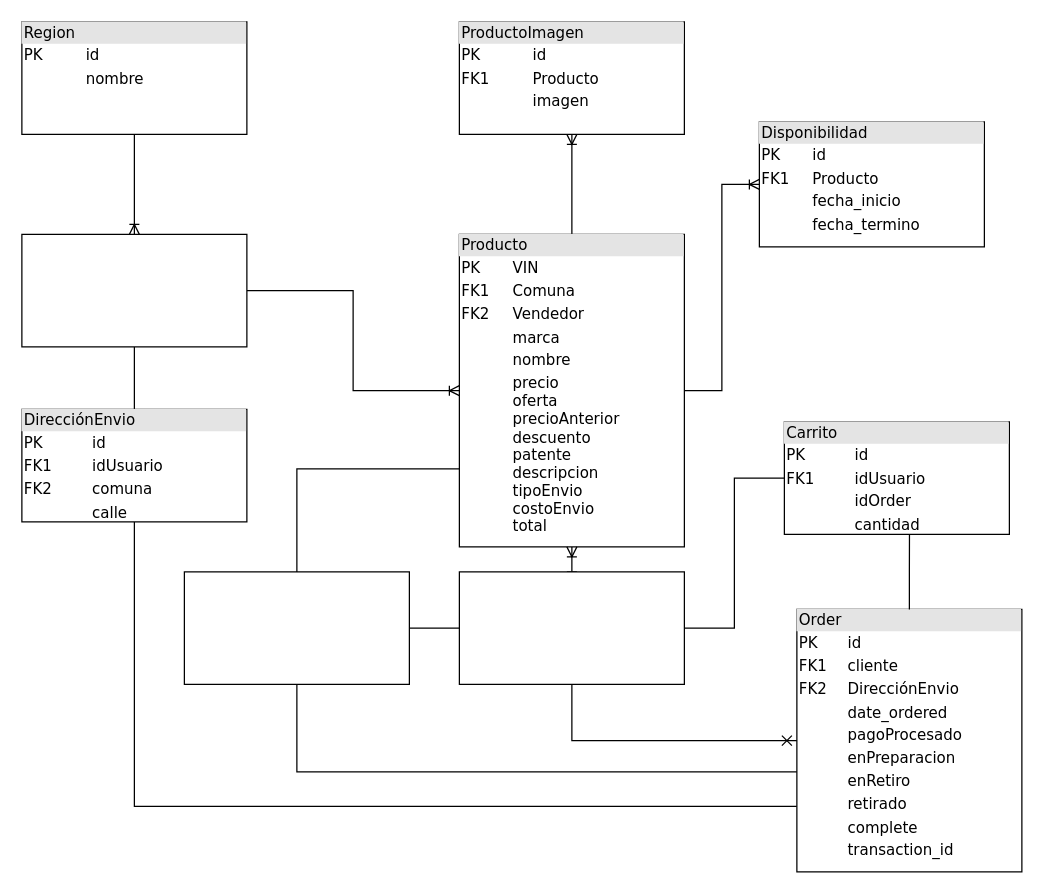
Some shapes in this 1044 by 894 pixel diagram are drawn without their labels. The shapes that lost their labels are listed below. From the top down, each one's centre as x and y in pixels, then its label:
the point at 134,290: Comuna PK id FK1 region nombre
the point at 296,627: OrderItem PK id FK1 order PK2 idUsuario PK3 idProducto cantidad
the point at 571,627: User PK uniqueId FK1 foreignKey fieldname
